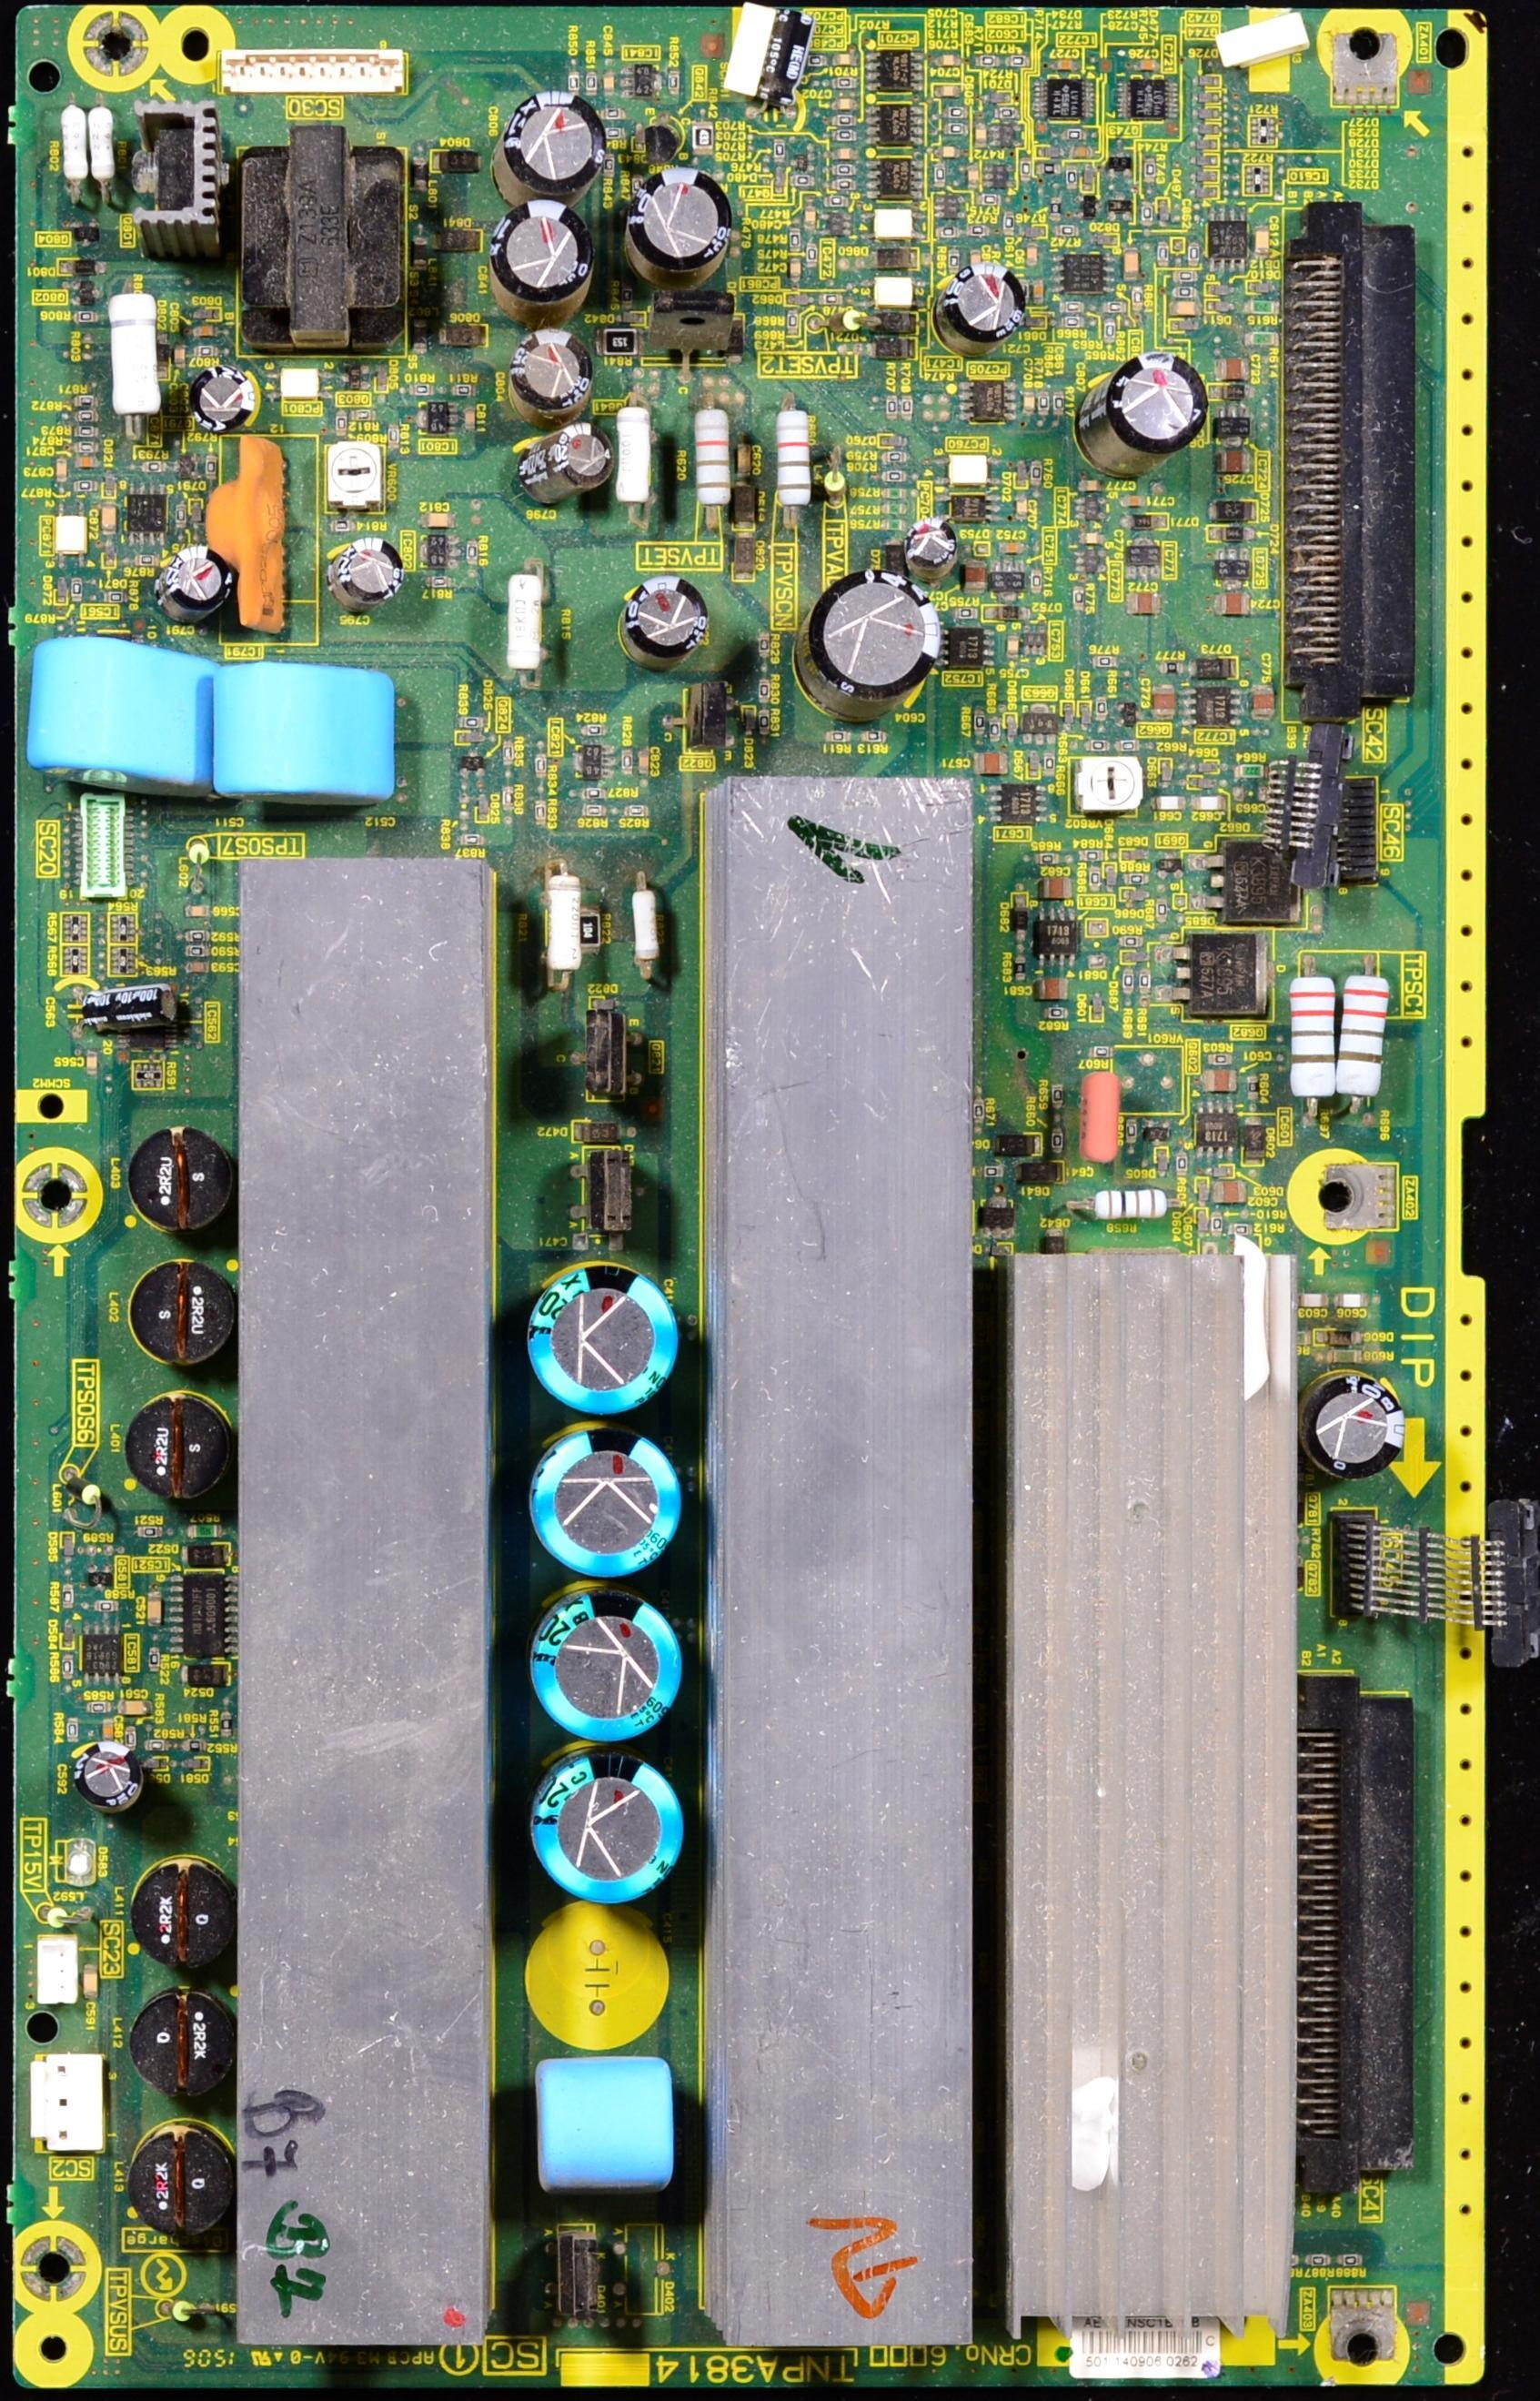Capacitor: (1151, 682, 1179, 724), (1213, 354, 1252, 384), (1251, 681, 1278, 722), (1216, 589, 1253, 618), (1124, 589, 1163, 616), (973, 750, 1010, 777), (1334, 1291, 1372, 1318), (1199, 1070, 1238, 1095), (1169, 297, 1203, 322), (1193, 794, 1228, 819), (1216, 450, 1250, 476), (1208, 1181, 1248, 1202), (1037, 976, 1077, 997), (1122, 245, 1141, 285), (1255, 224, 1273, 262), (98, 501, 119, 535), (1300, 1290, 1333, 1313), (1155, 795, 1186, 817), (1041, 877, 1072, 900), (1077, 479, 1106, 499), (120, 1700, 150, 1719), (75, 452, 103, 470), (186, 903, 213, 920), (145, 1594, 162, 1623), (182, 961, 212, 974), (1002, 541, 1027, 557), (1077, 530, 1103, 545), (1022, 389, 1035, 416), (55, 458, 69, 481), (85, 1971, 95, 1995), (1017, 496, 1028, 520), (639, 752, 649, 772), (790, 261, 801, 278), (1127, 496, 1144, 507), (604, 76, 615, 96), (969, 172, 980, 188), (936, 55, 954, 65), (831, 98, 855, 105), (1029, 245, 1035, 265), (106, 1723, 112, 1740), (806, 212, 816, 226), (976, 126, 984, 142), (941, 88, 953, 96), (836, 151, 851, 157), (1054, 60, 1067, 66), (973, 251, 981, 260), (837, 55, 850, 63), (1073, 149, 1089, 154), (943, 148, 958, 155), (1141, 61, 1152, 68)
Connector: (1290, 218, 1419, 687), (1294, 1665, 1410, 2188)
IC: (168, 1573, 242, 1660), (1203, 206, 1253, 276), (76, 1623, 134, 1685), (982, 781, 1051, 829), (863, 156, 926, 207), (1048, 251, 1113, 301), (864, 102, 925, 155), (951, 379, 1016, 429), (1032, 75, 1099, 123), (1034, 908, 1082, 972), (1111, 79, 1182, 120), (1191, 1102, 1237, 1162), (861, 50, 922, 94), (938, 626, 998, 671), (1183, 688, 1243, 731), (942, 491, 1003, 529), (411, 402, 463, 444), (573, 740, 619, 785), (418, 530, 461, 577), (620, 62, 667, 106), (989, 559, 1031, 607), (1210, 404, 1253, 449), (1126, 541, 1166, 583), (1072, 491, 1111, 530), (1017, 619, 1050, 661), (1212, 550, 1249, 587), (1074, 545, 1108, 584)
Resistor: (106, 292, 167, 429), (1287, 972, 1340, 1096), (1342, 973, 1388, 1095), (543, 871, 593, 977), (774, 404, 820, 515), (502, 572, 549, 677), (691, 404, 731, 515), (613, 406, 650, 510), (628, 887, 668, 977), (1082, 1190, 1177, 1226), (89, 109, 118, 195), (58, 107, 88, 189), (106, 913, 138, 946), (58, 910, 90, 944), (56, 944, 90, 974), (106, 942, 136, 974), (419, 509, 453, 531), (461, 408, 482, 434), (73, 421, 100, 439), (73, 410, 103, 424), (73, 437, 103, 451), (73, 393, 100, 409), (185, 945, 211, 958), (501, 742, 514, 765), (185, 929, 209, 941), (583, 721, 604, 731), (1144, 207, 1156, 224), (1052, 1135, 1062, 1153), (1335, 1351, 1355, 1361), (900, 402, 911, 418), (62, 1657, 69, 1678), (989, 722, 999, 741), (569, 77, 579, 94), (68, 1721, 76, 1740), (1036, 856, 1055, 864), (1248, 300, 1271, 308), (142, 462, 165, 469), (1206, 1054, 1223, 1062), (951, 112, 970, 120), (194, 1526, 212, 1535), (99, 1602, 116, 1611), (1091, 872, 1099, 889), (1052, 204, 1062, 217), (1006, 217, 1016, 231), (1097, 655, 1111, 664), (606, 112, 621, 120), (834, 132, 851, 139), (87, 1704, 103, 1713), (414, 386, 431, 394), (506, 792, 512, 810), (1124, 974, 1133, 987), (1142, 164, 1153, 177), (1052, 396, 1062, 408), (886, 508, 911, 513), (1063, 132, 1081, 137), (66, 1590, 74, 1608), (1190, 245, 1198, 258), (455, 385, 469, 393), (356, 411, 372, 419), (760, 680, 768, 696), (1157, 903, 1164, 919), (1050, 1088, 1057, 1105), (974, 1105, 982, 1120), (1209, 1216, 1216, 1232), (141, 1528, 158, 1535), (1022, 165, 1030, 180), (1105, 322, 1113, 338), (75, 483, 92, 490), (763, 637, 770, 653), (1163, 666, 1178, 674), (762, 714, 770, 731), (626, 752, 632, 772), (537, 804, 544, 822), (588, 76, 595, 92), (948, 253, 957, 266), (206, 459, 215, 472), (1098, 700, 1106, 711), (673, 76, 679, 95), (1138, 973, 1144, 987), (1236, 1225, 1249, 1232), (772, 144, 780, 157), (149, 1652, 156, 1667), (839, 165, 851, 172), (981, 195, 994, 201), (1158, 247, 1166, 260), (1040, 396, 1047, 409), (389, 430, 398, 445), (890, 472, 903, 479), (179, 510, 186, 526), (1012, 58, 1026, 65), (626, 807, 641, 813), (586, 808, 599, 815), (609, 134, 620, 141), (79, 317, 96, 322), (885, 491, 903, 498), (978, 716, 983, 732), (828, 734, 846, 740), (1093, 1049, 1106, 1055), (1003, 110, 1015, 116), (188, 1743, 202, 1750), (1069, 171, 1076, 184), (1060, 227, 1073, 233), (808, 251, 815, 263), (825, 297, 836, 302), (1255, 333, 1267, 339), (887, 519, 900, 525), (889, 399, 895, 415), (75, 581, 81, 597), (588, 792, 604, 797), (1043, 165, 1054, 172), (224, 1718, 229, 1732), (938, 169, 943, 184), (795, 178, 805, 185), (975, 226, 986, 232), (790, 314, 795, 327), (1064, 319, 1078, 324), (979, 58, 992, 63), (1080, 853, 1094, 859), (1129, 875, 1139, 882), (606, 160, 610, 173), (125, 1730, 130, 1743), (943, 230, 956, 237), (141, 559, 154, 564), (866, 731, 879, 737), (1178, 1161, 1184, 1169), (829, 195, 847, 198), (114, 594, 123, 600), (1093, 742, 1102, 749), (151, 1744, 161, 1750), (793, 235, 799, 246), (1181, 287, 1197, 290), (1106, 305, 1122, 308), (888, 455, 903, 459), (466, 720, 476, 725), (1177, 275, 1193, 278), (1063, 306, 1078, 310), (336, 523, 349, 527), (338, 418, 344, 428), (1119, 742, 1127, 747), (838, 181, 850, 184), (1125, 939, 1134, 943), (952, 128, 961, 131), (838, 120, 849, 123)
Transistor: (1347, 1512, 1488, 1628), (1170, 930, 1271, 1023), (1206, 834, 1305, 927), (973, 1195, 1017, 1240), (986, 558, 1028, 602), (1020, 704, 1059, 742), (1140, 1116, 1180, 1154), (462, 754, 487, 777), (825, 213, 848, 231), (71, 229, 100, 239), (77, 286, 96, 299), (90, 1572, 108, 1584), (796, 153, 811, 166)
